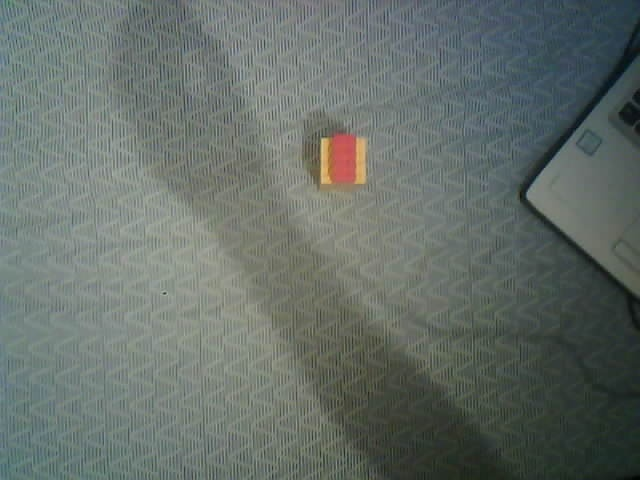lego: (318, 133, 367, 191)
